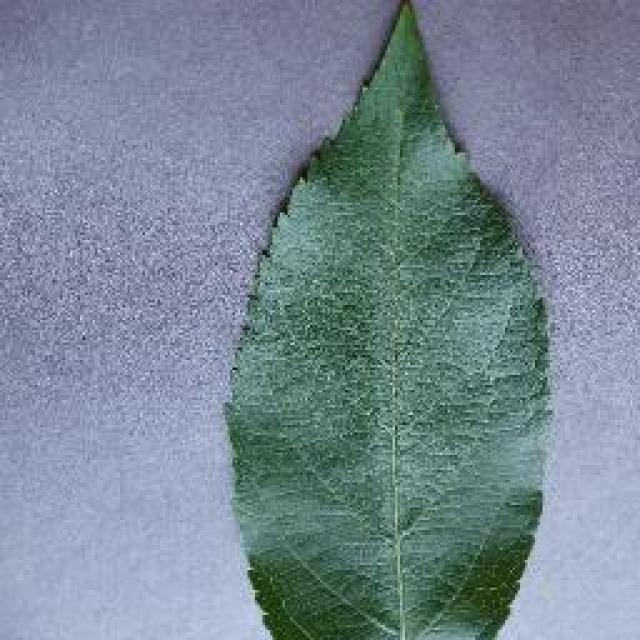apple healthy: (220, 0, 555, 638)
